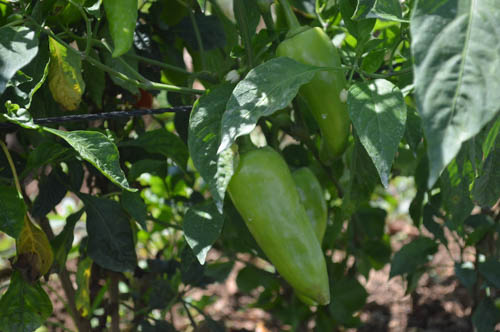ChiliPepper: (229, 148, 331, 304), (276, 27, 346, 152), (281, 165, 329, 310)
